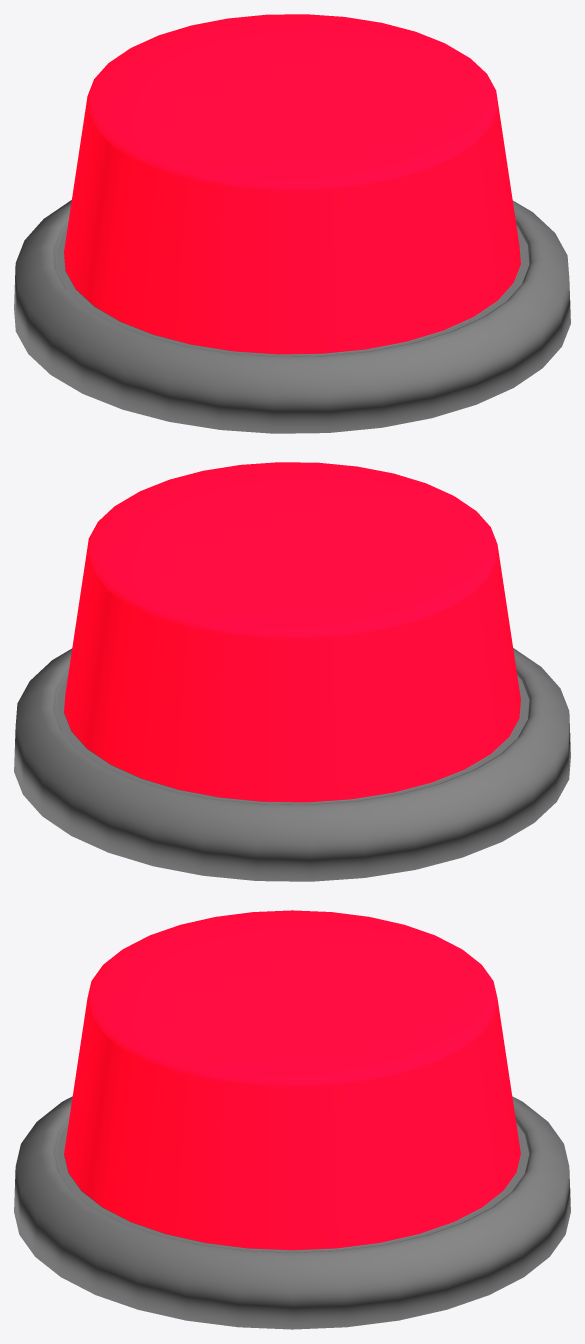
Rendered from Button.fbx.
3 views of the same model, one above another, from view 1: azimuth 30°, elevation 25°; view 2: azimuth 150°, elevation 25°; view 3: azimuth 270°, elevation 25° (orthographic).
Parts seen in each view (by area): view 1: Cylinder; view 2: Cylinder; view 3: Cylinder.
Part boxes in pixels (x1=…): Cylinder: x1=14, y1=14, x2=570, y2=433; Cylinder: x1=14, y1=462, x2=570, y2=881; Cylinder: x1=14, y1=910, x2=570, y2=1329.
Bounding box in the file's own units: 19.81 × 8.73 × 19.81.
